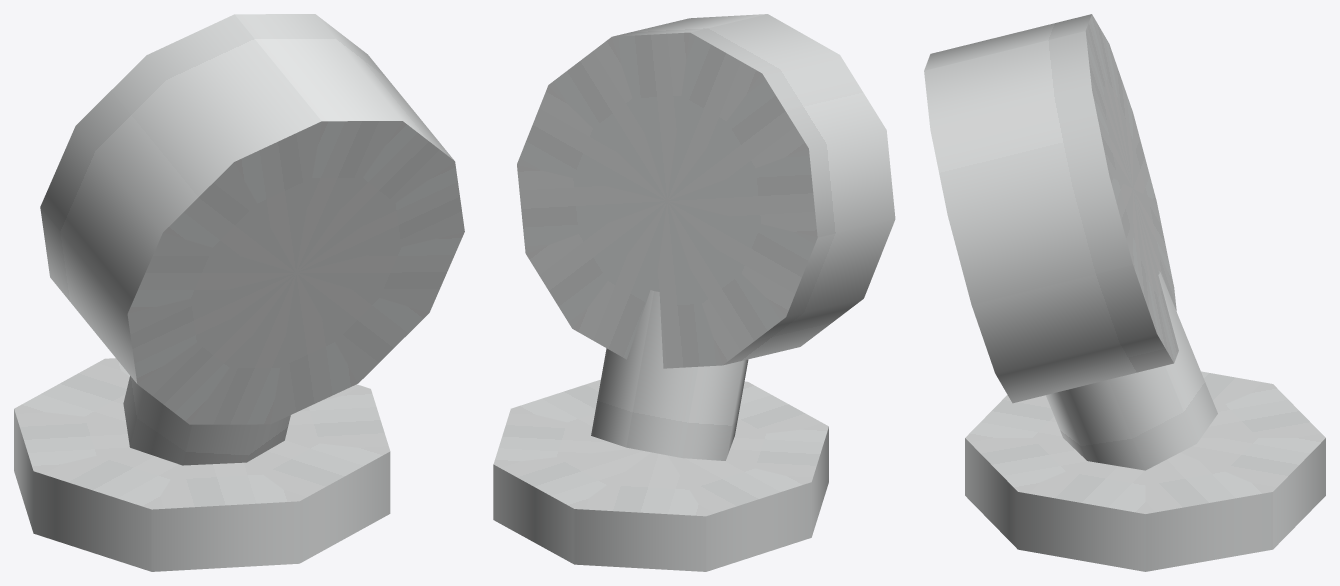
The model's file is trusssignalarm_stub_121.obj.
The picture shows the model from 3 angles, left to right: view 1: azimuth 30°, elevation 25°; view 2: azimuth 150°, elevation 25°; view 3: azimuth 270°, elevation 25°; orthographic projection. The views are drawn at different scales.
Visible parts, largest first — view 1: trusssignalarm_stub_121; view 2: trusssignalarm_stub_121; view 3: trusssignalarm_stub_121.
Part boxes in pixels (x1,y1,x2,y2): trusssignalarm_stub_121: (14,14,464,571); trusssignalarm_stub_121: (493,14,895,571); trusssignalarm_stub_121: (924,14,1325,571).
Bounding box in the file's own units: 0.35 × 0.4974 × 0.3899.
